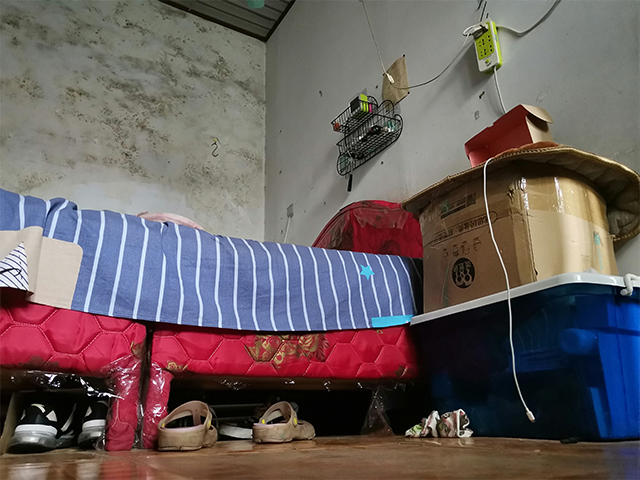bed: (1, 187, 425, 453)
slippers: (154, 398, 219, 453), (249, 399, 318, 445)
socks: (402, 407, 476, 440)
wire: (482, 156, 538, 425)
